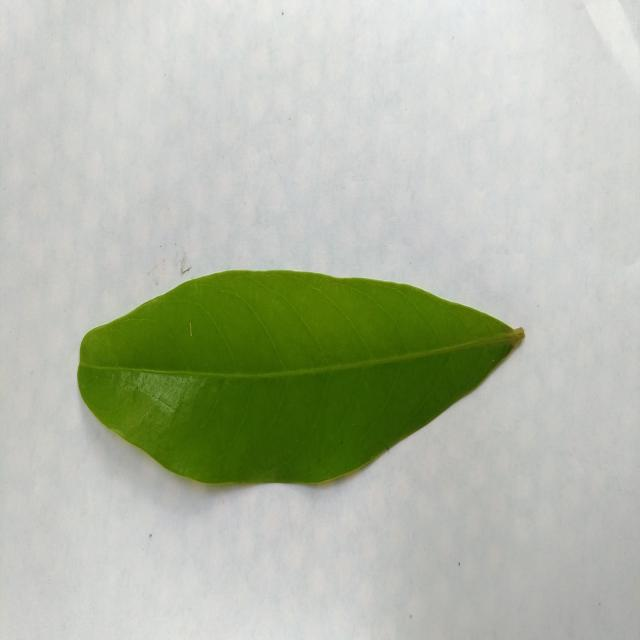seethaashoka: (78, 271, 524, 482)
